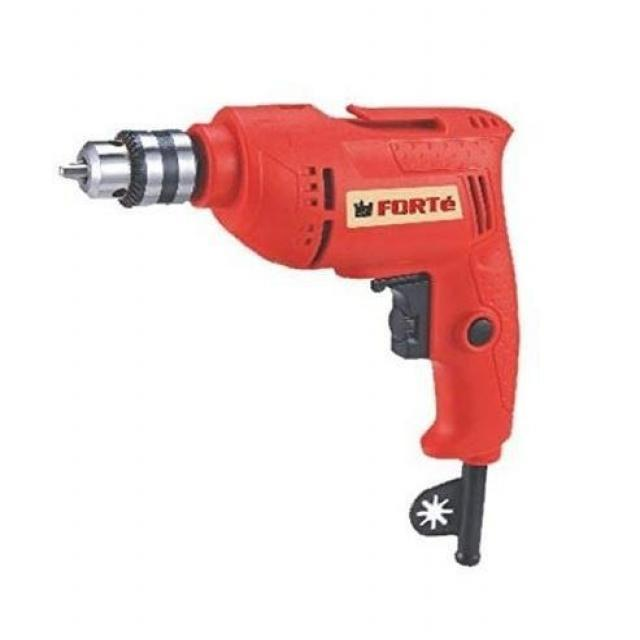drill: (56, 103, 522, 568)
